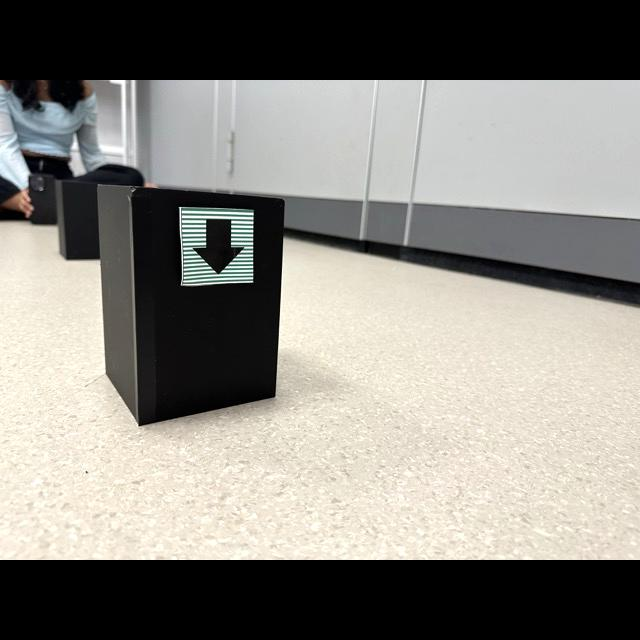DOWN: (193, 219, 244, 275)
